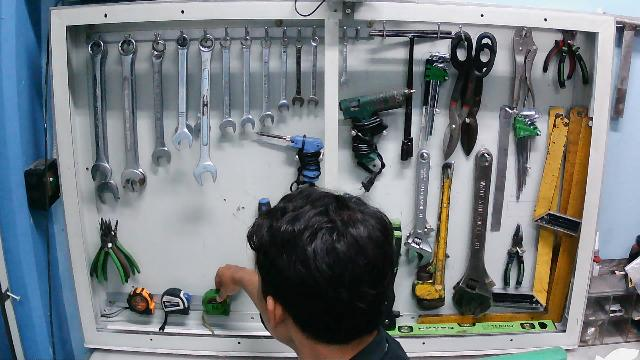meteran: (195, 281, 238, 334)
